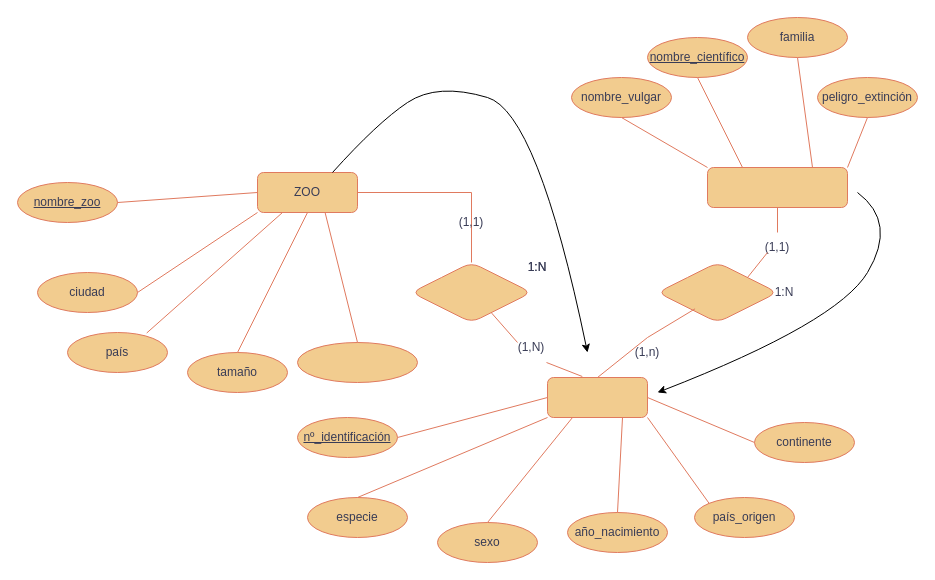
Some shapes in this 935 by 580 pixel diagram are drawn without their labels. Each missing label, with the centre of its shape:
"ANIMAL" goes at point (597, 397).
"ESPECIE_ANIMAL" goes at point (777, 187).
"pertenece" goes at point (717, 292).
"posee" goes at point (471, 292).
"presupuesto_anual" goes at point (357, 362).
